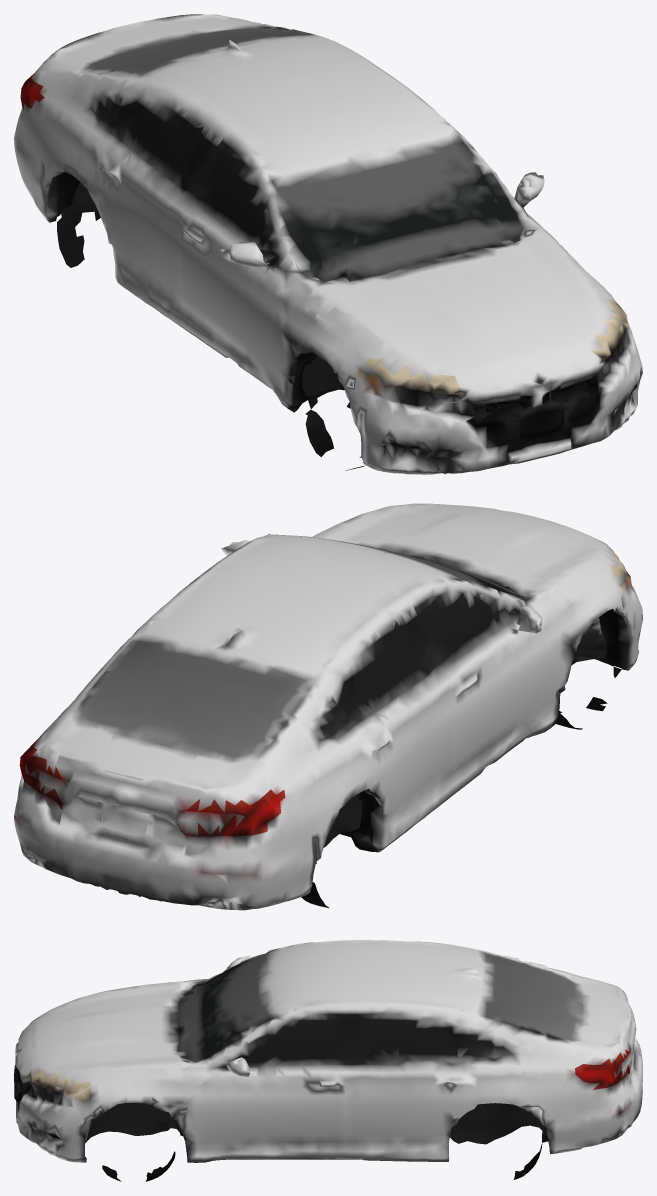
File: honda-accord-2018.glb
3 renders of one model, top to bottom at view 1: azimuth 30°, elevation 25°; view 2: azimuth 150°, elevation 25°; view 3: azimuth 270°, elevation 25°, orthographic. The views are drawn at different scales.
Parts seen in each view (by area): view 1: honda-accord-2018; view 2: honda-accord-2018; view 3: honda-accord-2018.
Part boxes in pixels (x1,y1,x2,y2): honda-accord-2018: (14,14,642,474); honda-accord-2018: (14,503,642,910); honda-accord-2018: (14,940,642,1181).
Bounding box in the file's own units: 2.12 × 1.43 × 4.87.
